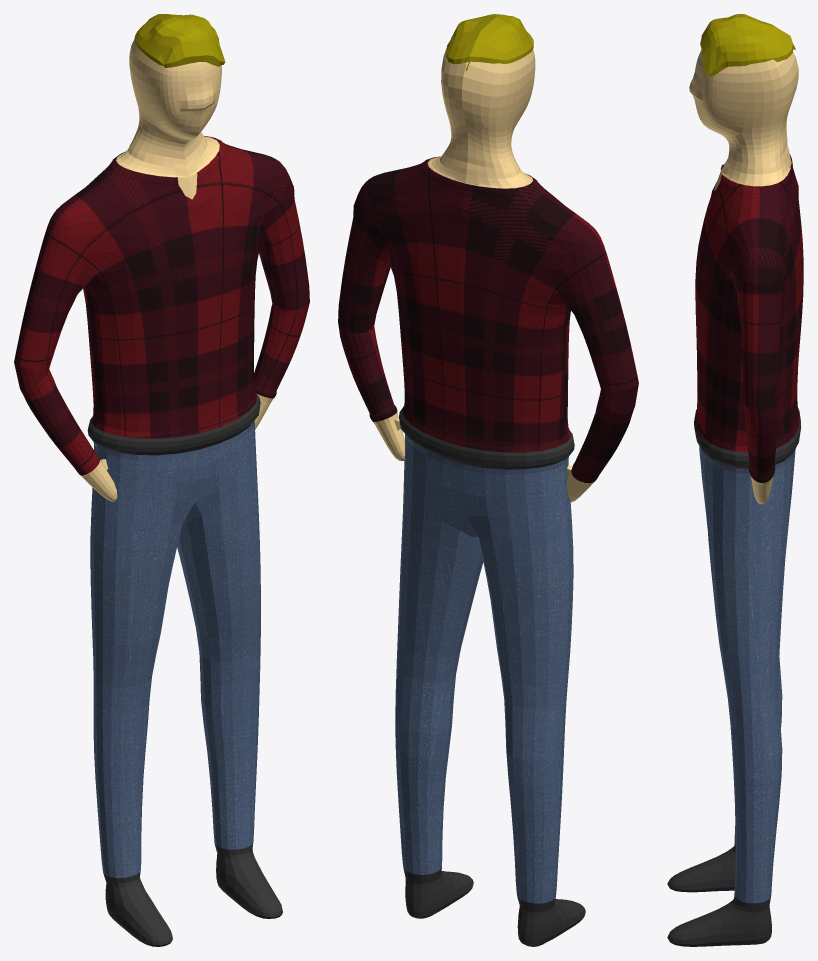
Rendered from Croata.fbx.
3 views of the same model, side by side, from view 1: azimuth 30°, elevation 25°; view 2: azimuth 150°, elevation 25°; view 3: azimuth 270°, elevation 25° (orthographic).
Visible parts, largest first — view 1: croata; view 2: croata; view 3: croata.
Part boxes in pixels (x1=…): croata: x1=14, y1=14, x2=309, y2=946; croata: x1=338, y1=14, x2=638, y2=946; croata: x1=667, y1=14, x2=803, y2=946.
Bounding box in the file's own units: 61.63 × 180 × 24.87.
5 materials, 2 textured.
